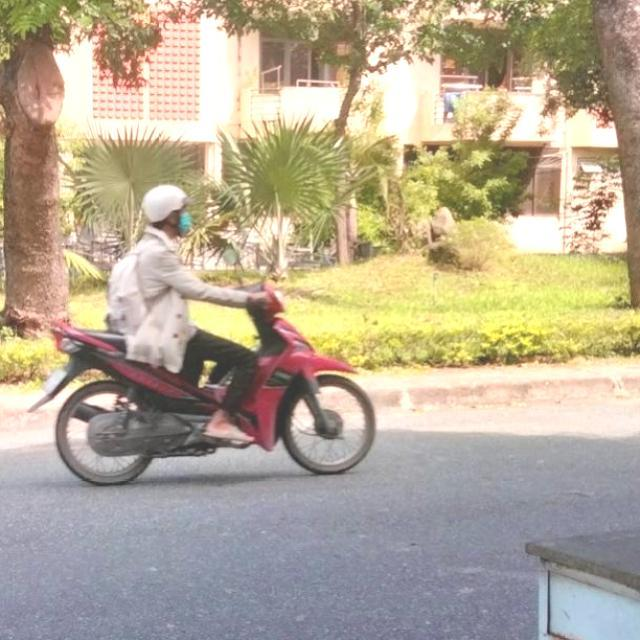Helmet: (141, 185, 198, 240)
